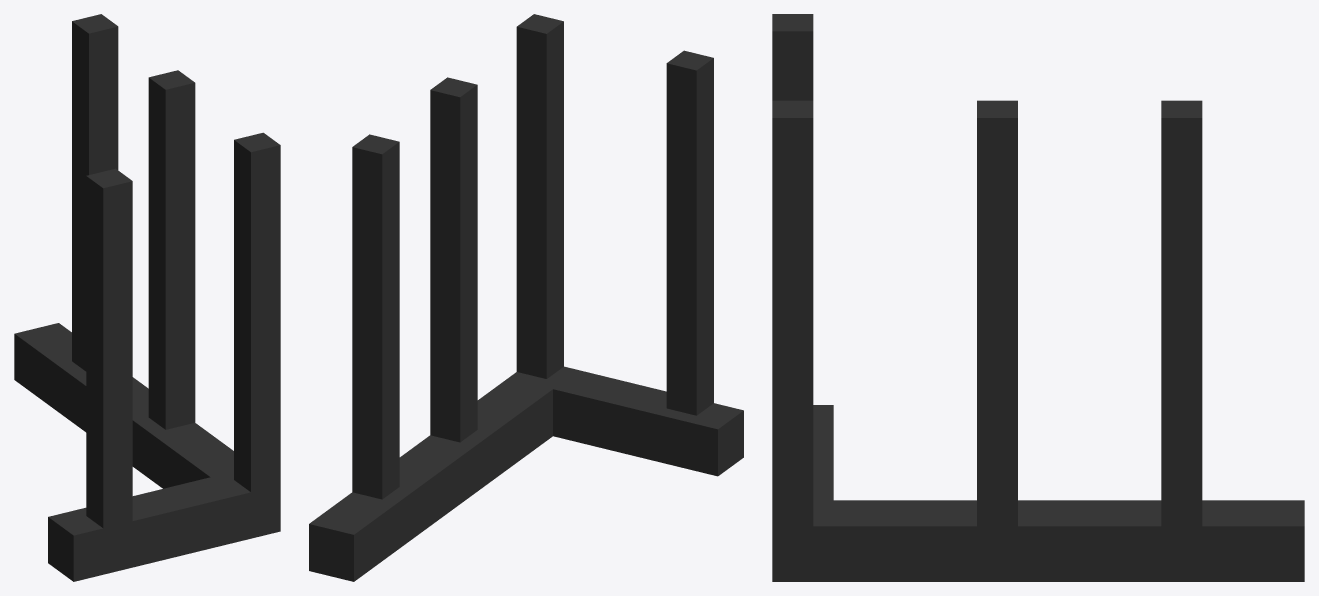
The model's file is casa3-1.obj.
3 renders of one model, left to right at view 1: azimuth 30°, elevation 25°; view 2: azimuth 150°, elevation 25°; view 3: azimuth 270°, elevation 25°, orthographic. The views are drawn at different scales.
Bounding box in the file's own units: 14 × 25 × 26.
Materials: 1 (1 with a texture image).
